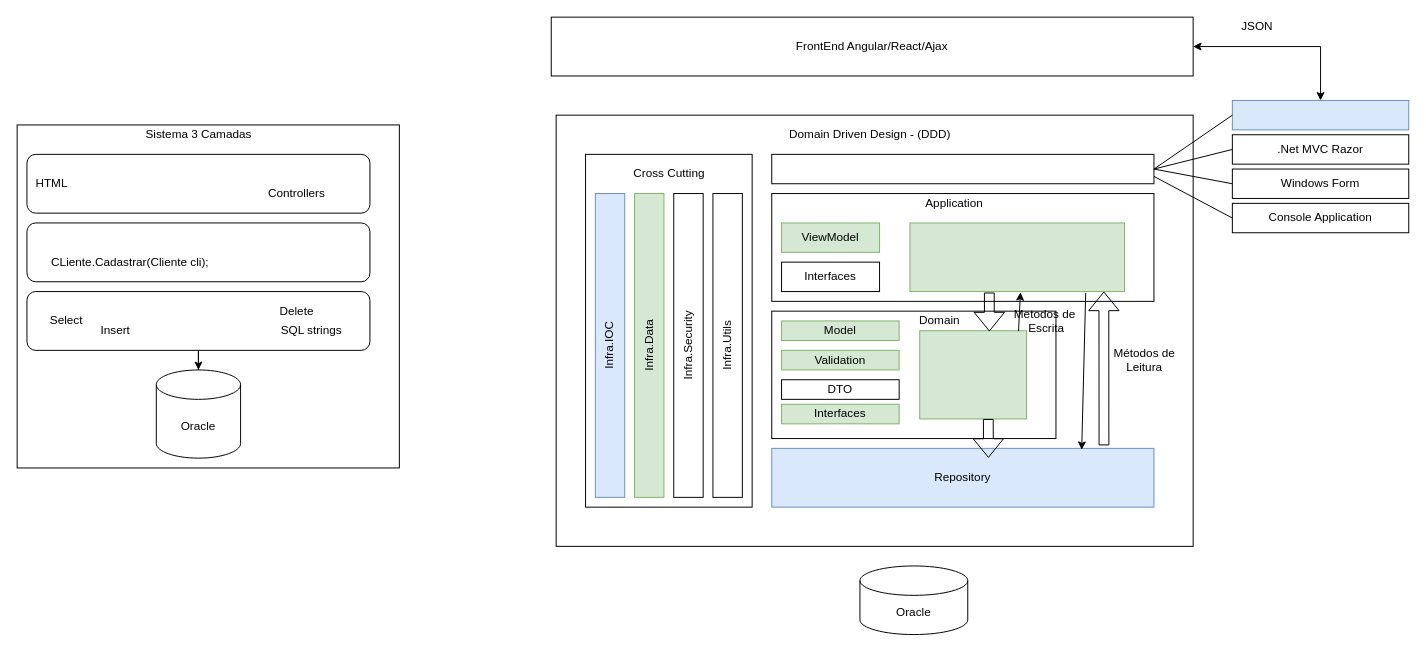
Some shapes in this 1426 by 652 pixel diagram are drawn without their labels. Each missing label, with the box of its shape:
API: (1231, 99, 1409, 130)
AppServices: (909, 222, 1125, 292)
Business: (26, 222, 370, 282)
Dal/Repository: (26, 291, 370, 350)
FrontEnd: (26, 153, 370, 213)
Services: (919, 330, 1027, 419)
